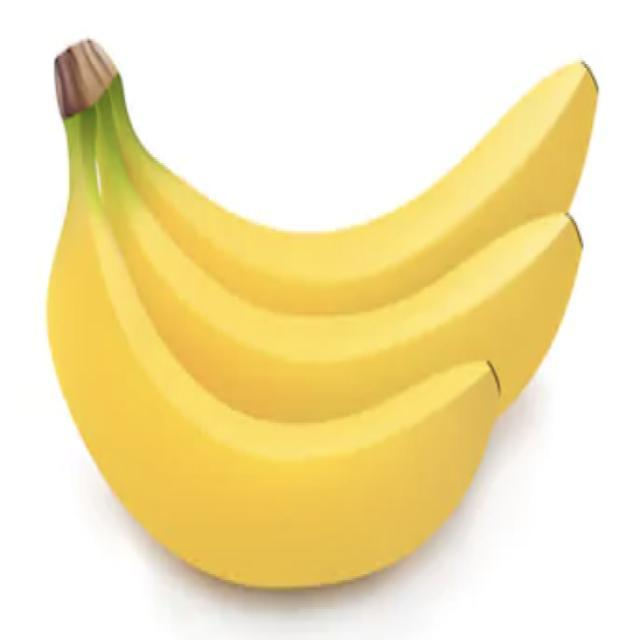Banana: (45, 36, 599, 590)
